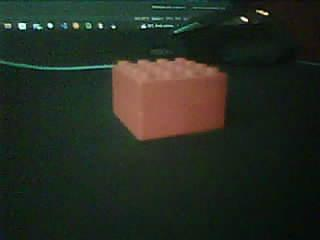lego: (111, 56, 227, 140)
